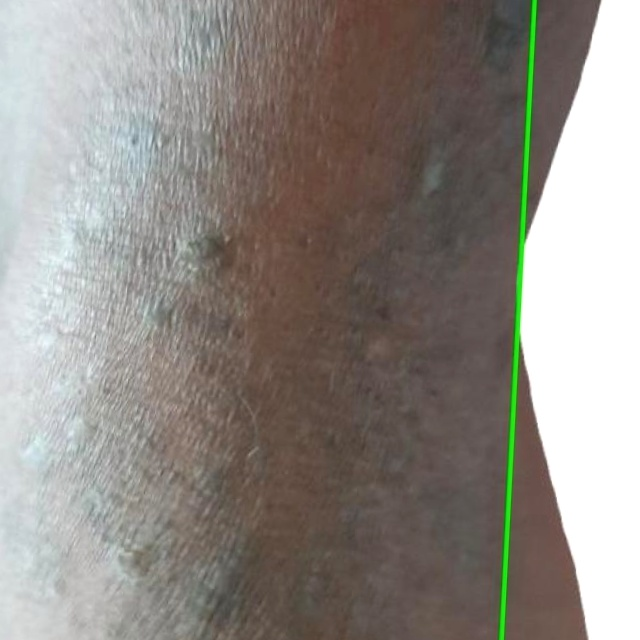Contact Dermatitis: (501, 0, 639, 639)
